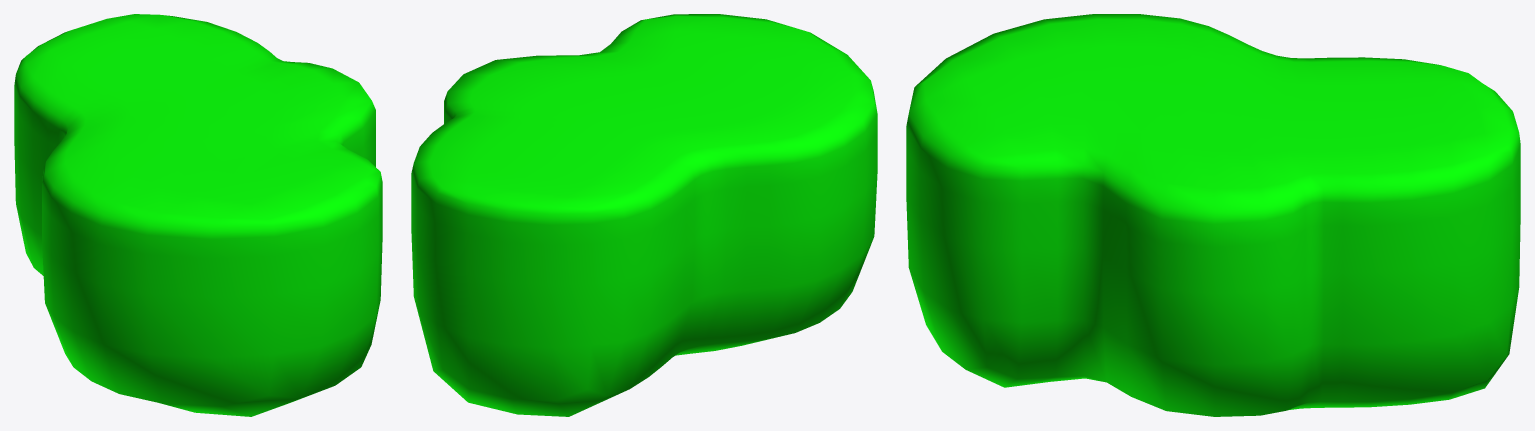
File: Top Island Layer.fbx
The picture shows the model from 3 angles, left to right: view 1: azimuth 30°, elevation 25°; view 2: azimuth 150°, elevation 25°; view 3: azimuth 270°, elevation 25°; orthographic projection. The views are drawn at different scales.
Visible parts, largest first — view 1: Island Top Layer; view 2: Island Top Layer; view 3: Island Top Layer.
Part boxes in pixels (x1,y1,x2,y2): Island Top Layer: (14, 14, 382, 416); Island Top Layer: (411, 14, 877, 416); Island Top Layer: (906, 14, 1520, 416).
Size of the model in its own units: 199 by 122 by 258.
